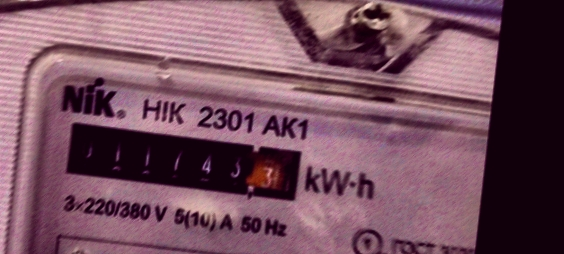0: (78, 132, 95, 161)
1: (139, 138, 154, 168), (110, 135, 123, 163)
3: (227, 151, 244, 180), (257, 164, 273, 190)
4: (197, 148, 214, 176)
7: (167, 142, 185, 171)
screen: (53, 110, 313, 212)
